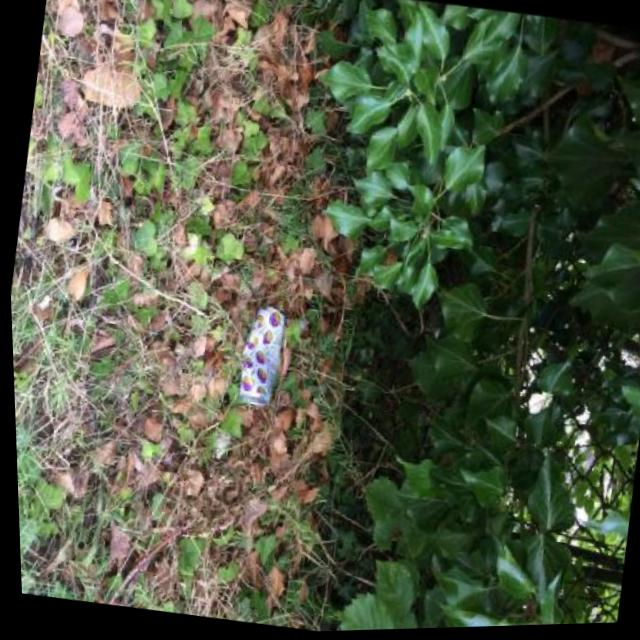metal: (233, 301, 291, 408)
